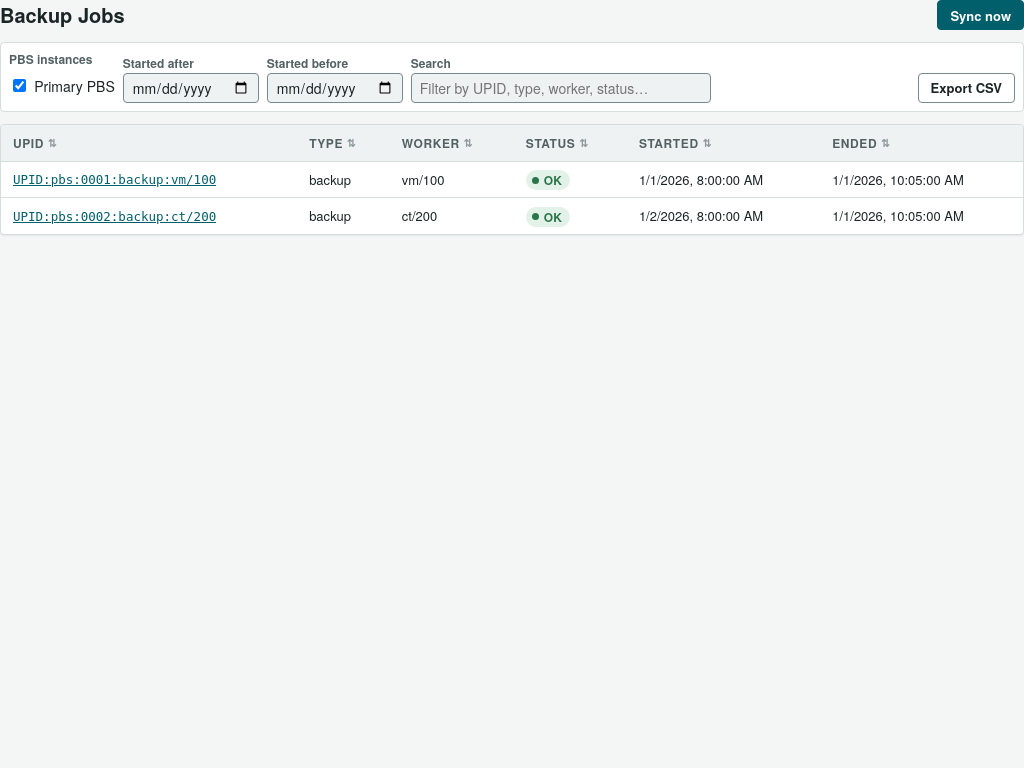
Test: TasksPage › shows an error state when the log fetch fails
The width and height of the screenshot is (1024, 768).
Expected: the checkbox labelled "Primary PBS" is shown, [13,79,26,92]
Expected: the field labelled "Search" is shown, [411,73,711,103]
Click the button "UPID:pbs:0001:backup:vm/100": point(115, 180) [13,172,216,187]
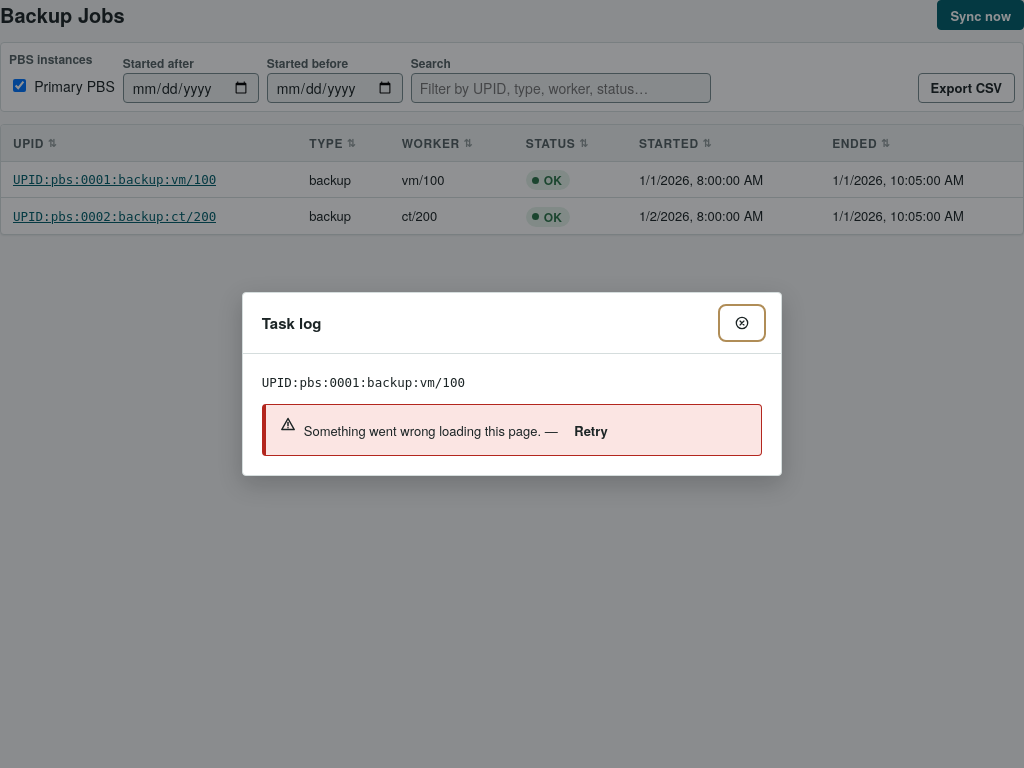
Expected: the text "Something went wrong loading this page. — Retry" is shown, [304,415,621,445]
